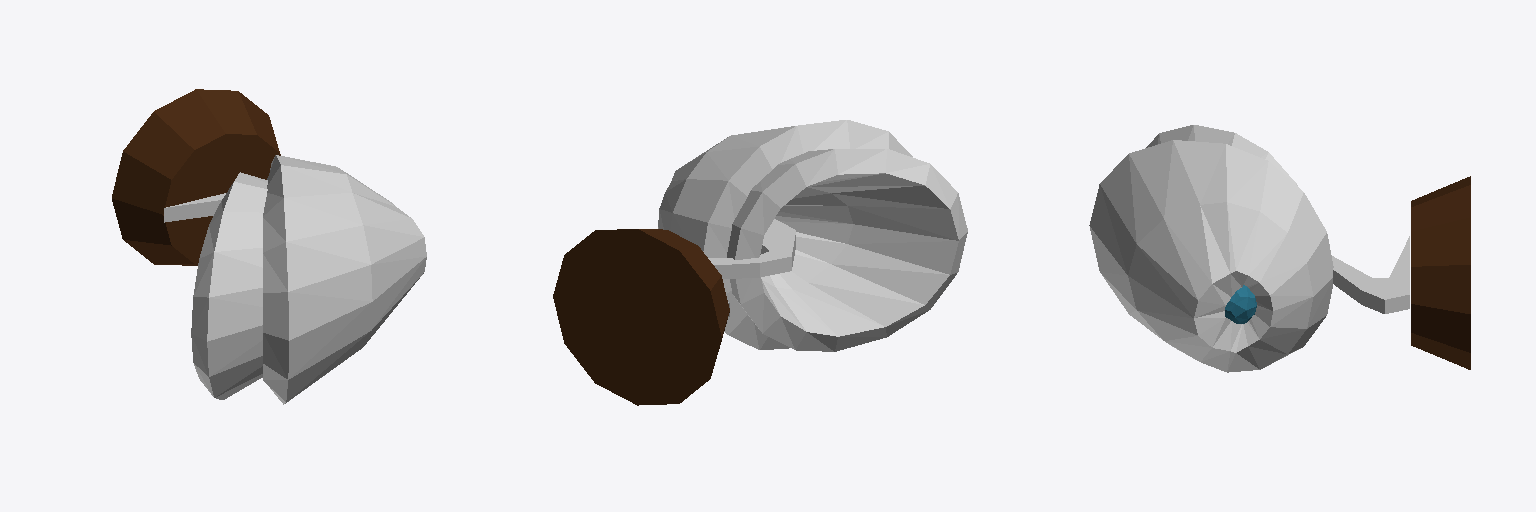
3 renders of one model, left to right at view 1: azimuth 30°, elevation 25°; view 2: azimuth 150°, elevation 25°; view 3: azimuth 270°, elevation 25°, orthographic.
Parts seen in each view (by area): view 1: Cone_Cone_cover, Cylinder_Cylinder_Material.001, Cone.001_Cone.001_cover, Plane_Plane_Material.003; view 2: Cone.001_Cone.001_cover, Cylinder_Cylinder_Material.001, Cone_Cone_cover, Plane_Plane_Material.003; view 3: Cone_Cone_cover, Cylinder_Cylinder_Material.001, Plane_Plane_Material.003, Cone.001_Cone.001_cover, Icosphere_Icosphere_ball.
Boxes of the visible parts, box(x1,y1,x2,y2) form: Cone_Cone_cover: box(263, 155, 426, 404); Cylinder_Cylinder_Material.001: box(112, 89, 280, 265); Cone.001_Cone.001_cover: box(191, 172, 267, 399); Plane_Plane_Material.003: box(164, 193, 225, 222); Cone.001_Cone.001_cover: box(727, 149, 967, 351); Cylinder_Cylinder_Material.001: box(553, 229, 729, 405); Cone_Cone_cover: box(658, 120, 912, 349); Plane_Plane_Material.003: box(708, 219, 795, 316); Cone_Cone_cover: box(1089, 140, 1333, 372); Cylinder_Cylinder_Material.001: box(1411, 176, 1470, 369); Plane_Plane_Material.003: box(1332, 236, 1409, 313); Cone.001_Cone.001_cover: box(1146, 125, 1297, 185); Icosphere_Icosphere_ball: box(1225, 285, 1256, 323).
Size of the model in its own units: 1.68 by 1.4 by 2.17.
Materials: 4 (1 with a texture image).